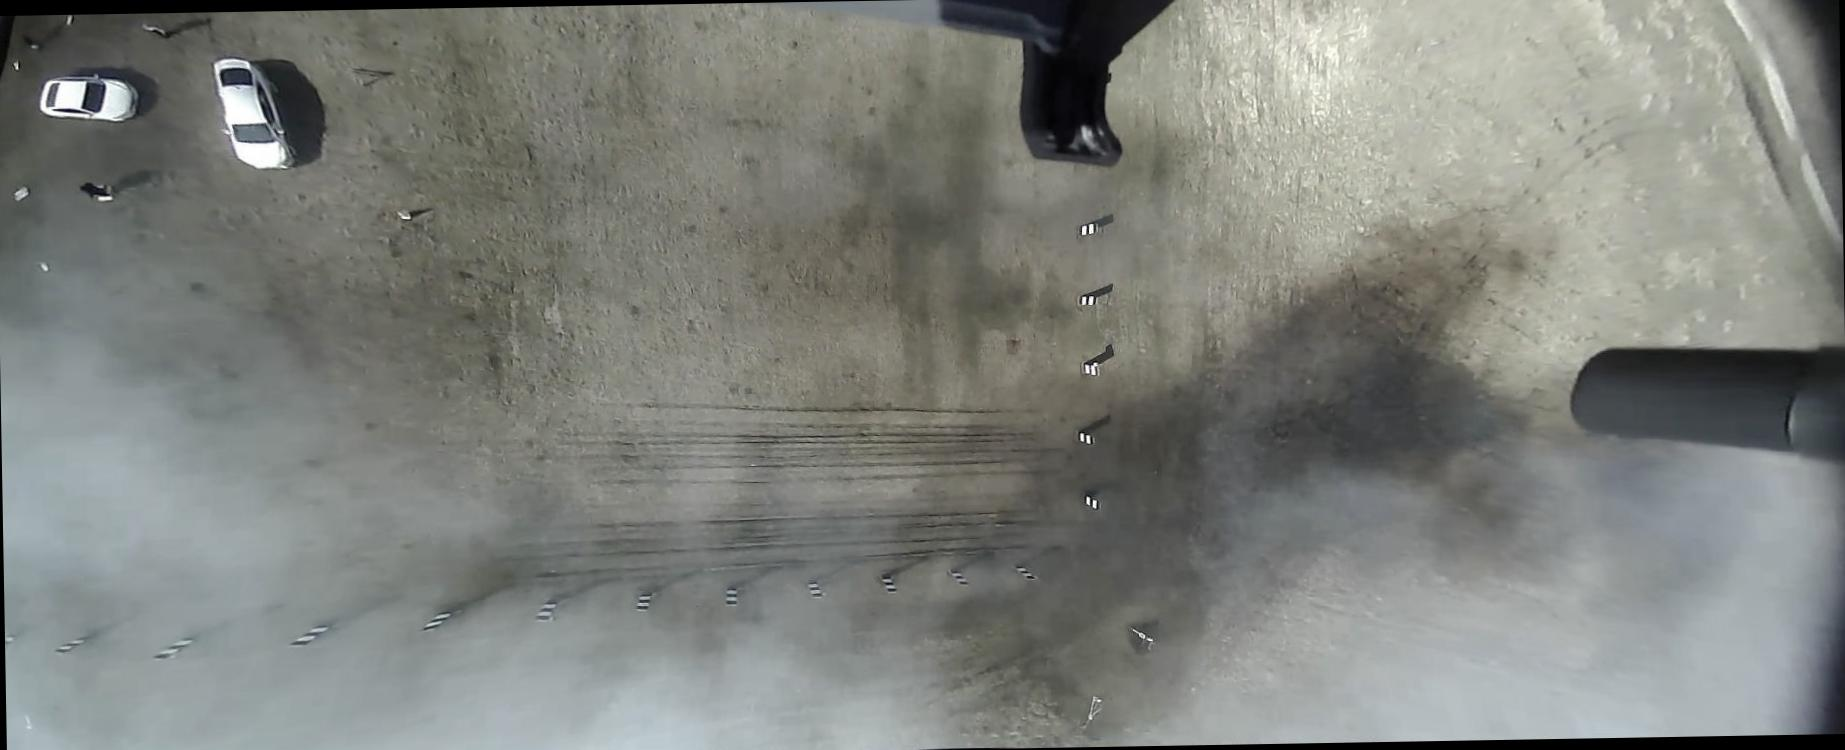vehicle: (210, 56, 298, 172), (36, 72, 140, 124)
